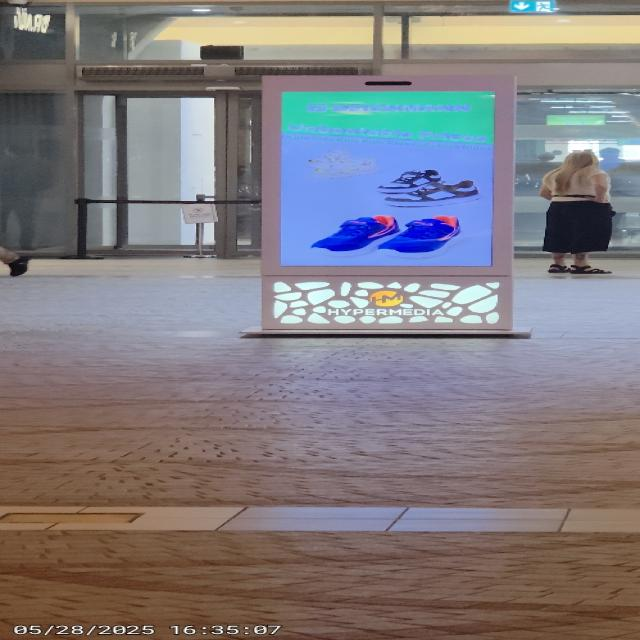mupi: (262, 67, 514, 335)
